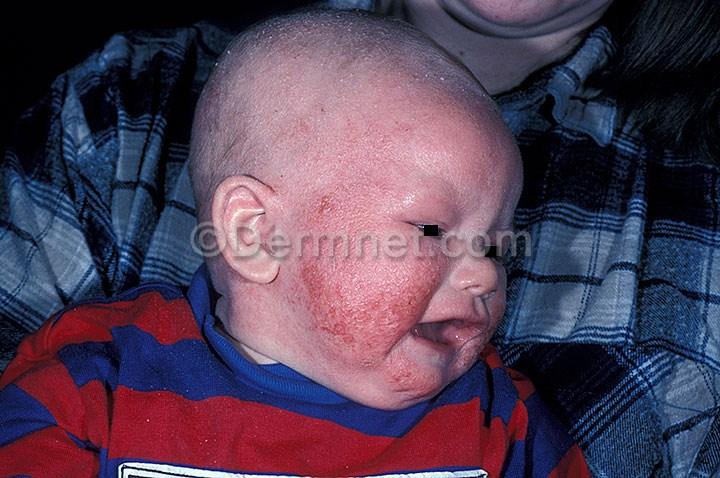Eritema 2: (294, 263, 435, 354)
excoriacion 1: (298, 259, 429, 344)
xerosis 1: (294, 119, 497, 361), (205, 9, 482, 102)
